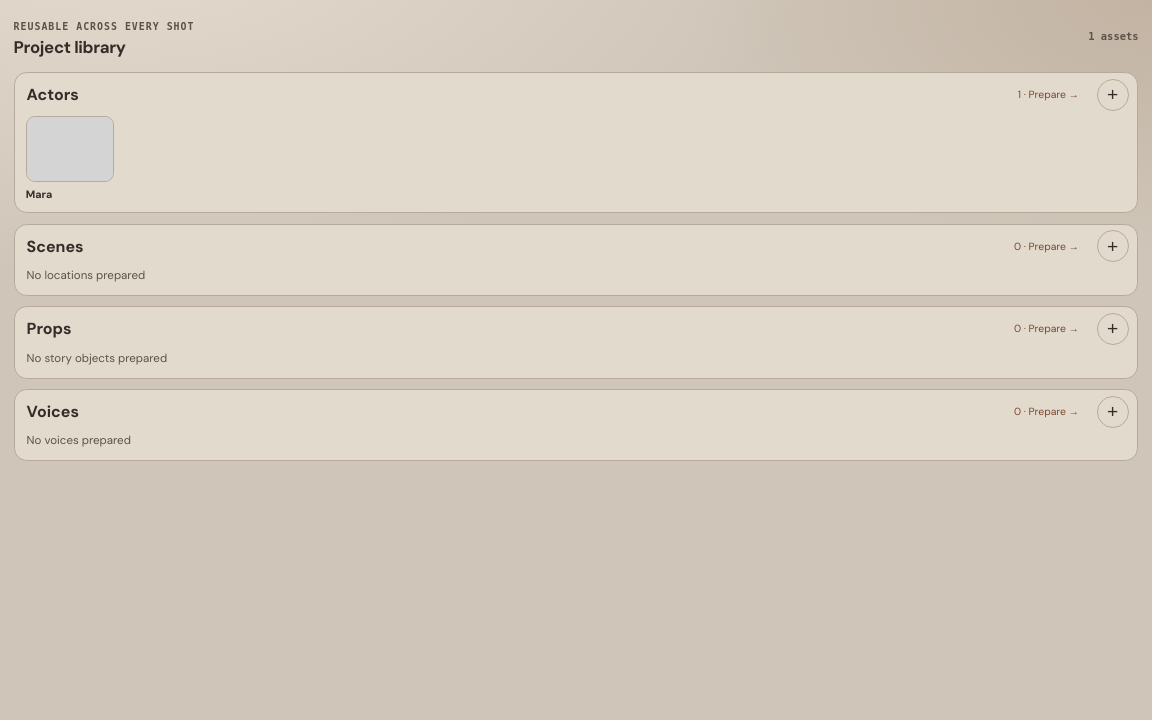
LibraryOverview asset details › opens the complete asset set when a Library thumbnail is clicked
The image size is (1152, 720).
Click the button with aria-label "View Mara asset set". click: (70, 159)
box: [26,116,114,201]
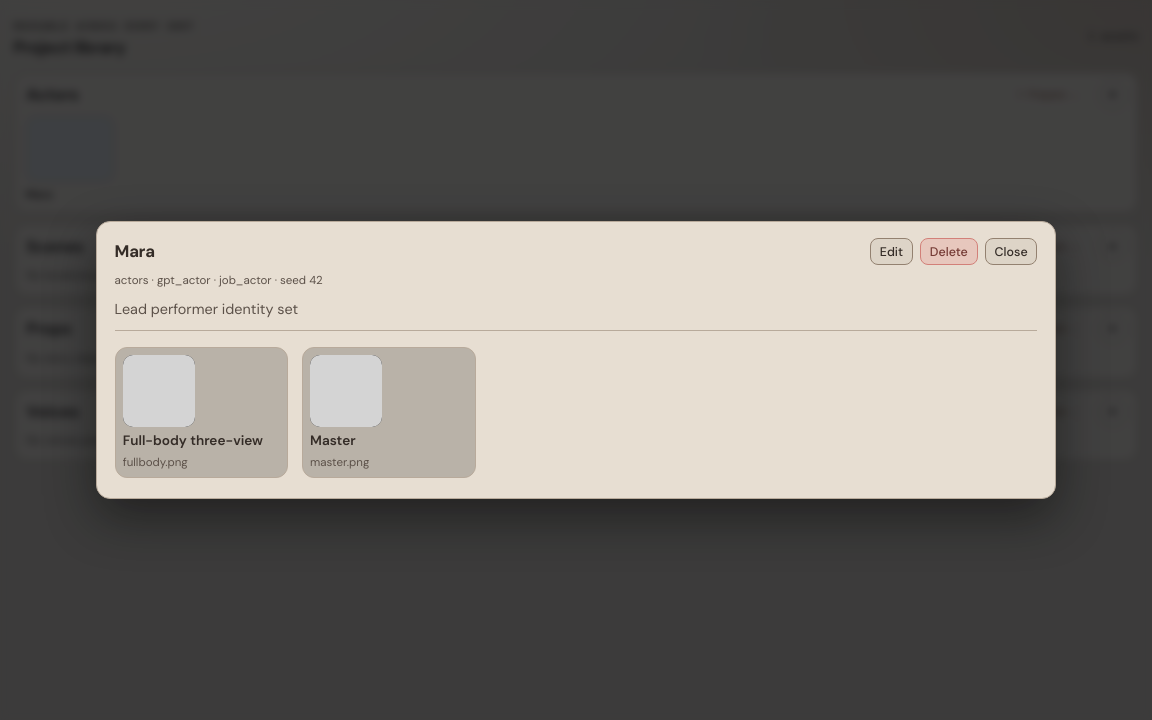
expect the dialog named "Mara assets" is shown: met
expect the text "Master" is shown: met, box [310,432,356,450]
expect the text "Full-body three-view" is shown: met, box [123,432,263,450]
